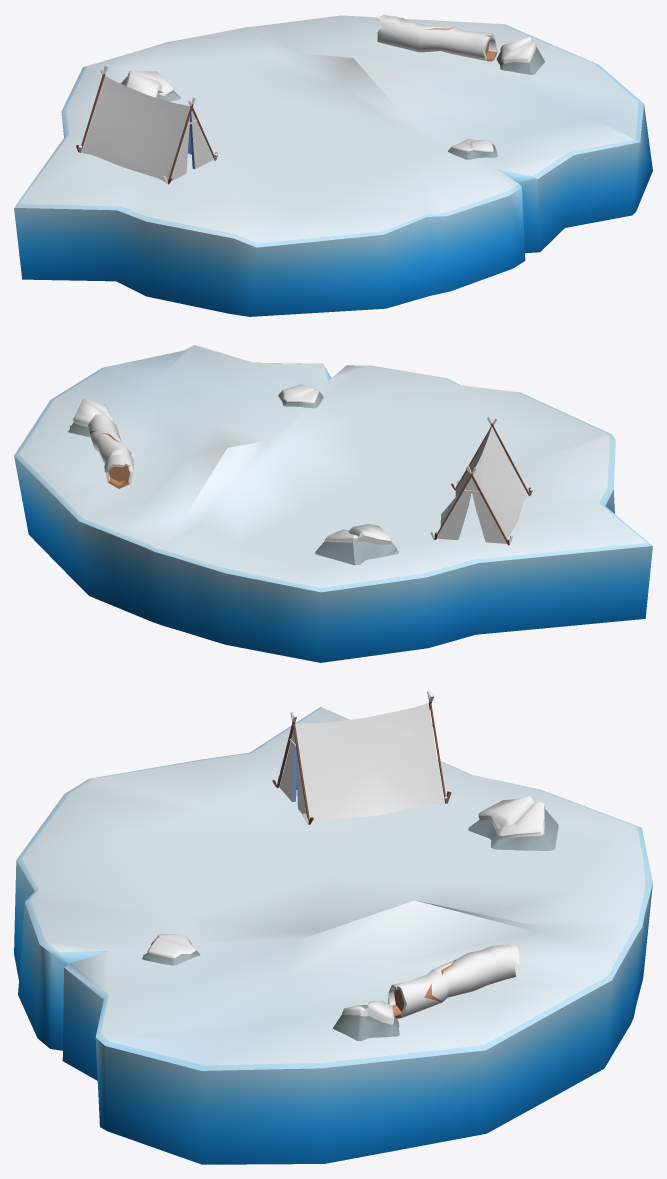
File: Island_02.fbx
3 renders of one model, top to bottom at view 1: azimuth 30°, elevation 25°; view 2: azimuth 150°, elevation 25°; view 3: azimuth 270°, elevation 25°, orthographic. The views are drawn at different scales.
Parts seen in each view (by area): view 1: Island_02, Island_02_Assets; view 2: Island_02, Island_02_Assets; view 3: Island_02, Island_02_Assets.
Boxes of the visible parts, <box> form: Island_02: <box>14,15,652,316</box>; Island_02_Assets: <box>76,14,544,184</box>; Island_02: <box>14,345,652,662</box>; Island_02_Assets: <box>68,384,533,565</box>; Island_02: <box>14,707,652,1164</box>; Island_02_Assets: <box>142,691,558,1040</box>.
Bounding box in the file's own units: 33.56 × 8.1 × 24.8.
